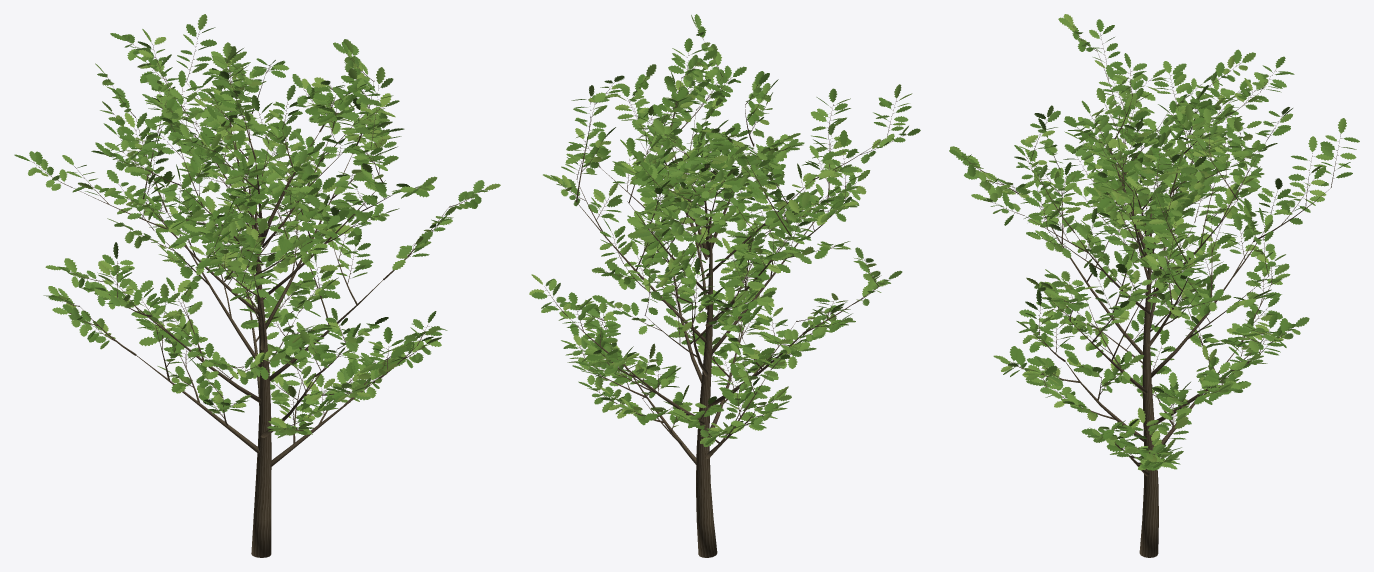
File: Sessile_Oak_Young_01_LOD0.fbx
3 views of the same model, side by side, from view 1: azimuth 30°, elevation 25°; view 2: azimuth 150°, elevation 25°; view 3: azimuth 270°, elevation 25° (orthographic). The views are drawn at different scales.
Visible parts, largest first — view 1: Sessile_Oak_Young_01_Foliage_LOD0, Sessile_Oak_Young_01_Bark_LOD0; view 2: Sessile_Oak_Young_01_Foliage_LOD0, Sessile_Oak_Young_01_Bark_LOD0; view 3: Sessile_Oak_Young_01_Foliage_LOD0, Sessile_Oak_Young_01_Bark_LOD0.
Part boxes in pixels (x1,y1,x2,y2): Sessile_Oak_Young_01_Foliage_LOD0: [14, 14, 500, 438]; Sessile_Oak_Young_01_Bark_LOD0: [31, 31, 482, 557]; Sessile_Oak_Young_01_Foliage_LOD0: [529, 14, 920, 446]; Sessile_Oak_Young_01_Bark_LOD0: [544, 29, 906, 557]; Sessile_Oak_Young_01_Foliage_LOD0: [949, 14, 1359, 470]; Sessile_Oak_Young_01_Bark_LOD0: [961, 26, 1342, 557].
Bounding box in the file's own units: 632 × 799 × 620.
Materials: 5 (1 with a texture image).
